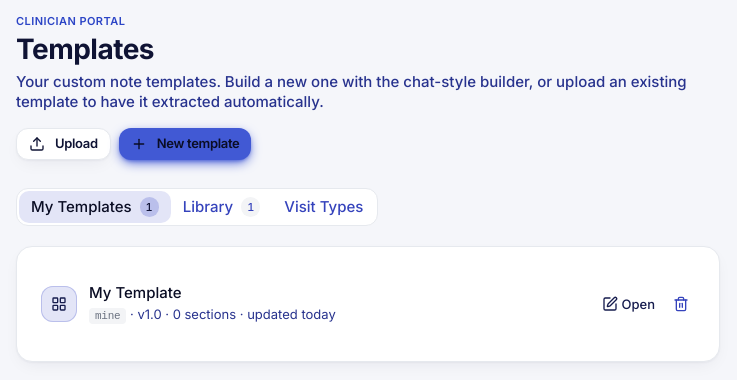
it: PortalTemplatesPage — ownership gating + delete modal › shows Delete only for owned rows
Check: the button named "Delete My Template" is shown, box [667, 290, 695, 318]
// The shared (non-owned) row lives in the Library tab and has no Delete.
Step 1. Click the tab with test id "templates-tab-library" → (222, 207), box [171, 191, 272, 223]
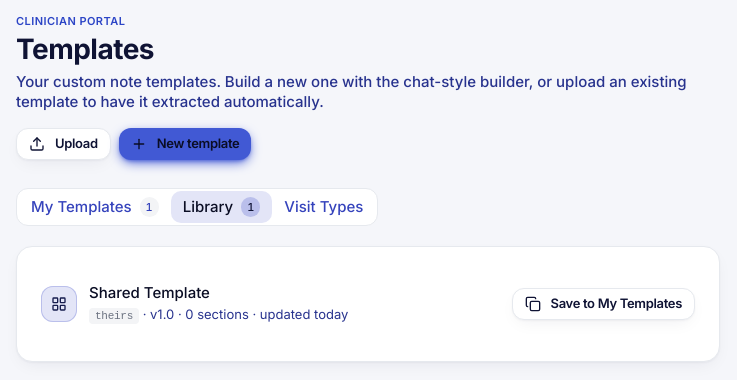
Check: the text "Shared Template" is shown, box [89, 283, 210, 302]
